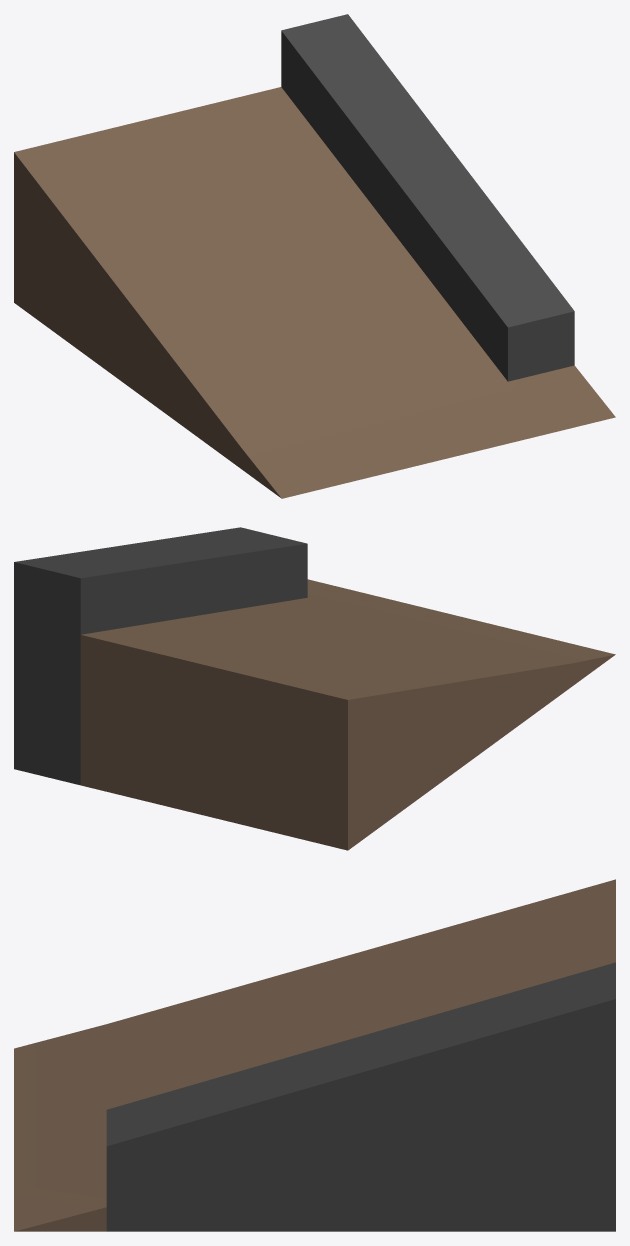
Rendered from Ramp Hubba.fbx.
The picture shows the model from 3 angles, top to bottom: view 1: azimuth 30°, elevation 25°; view 2: azimuth 150°, elevation 25°; view 3: azimuth 270°, elevation 25°; orthographic projection. The views are drawn at different scales.
Visible parts, largest first — view 1: Ramp_with_Hubba; view 2: Ramp_with_Hubba; view 3: Ramp_with_Hubba.
Part boxes in pixels (x1,y1,x2,y2): Ramp_with_Hubba: [14, 14, 615, 498]; Ramp_with_Hubba: [14, 527, 615, 850]; Ramp_with_Hubba: [14, 879, 615, 1231].
Size of the model in its own units: 1.93 by 1.14 by 2.68.
